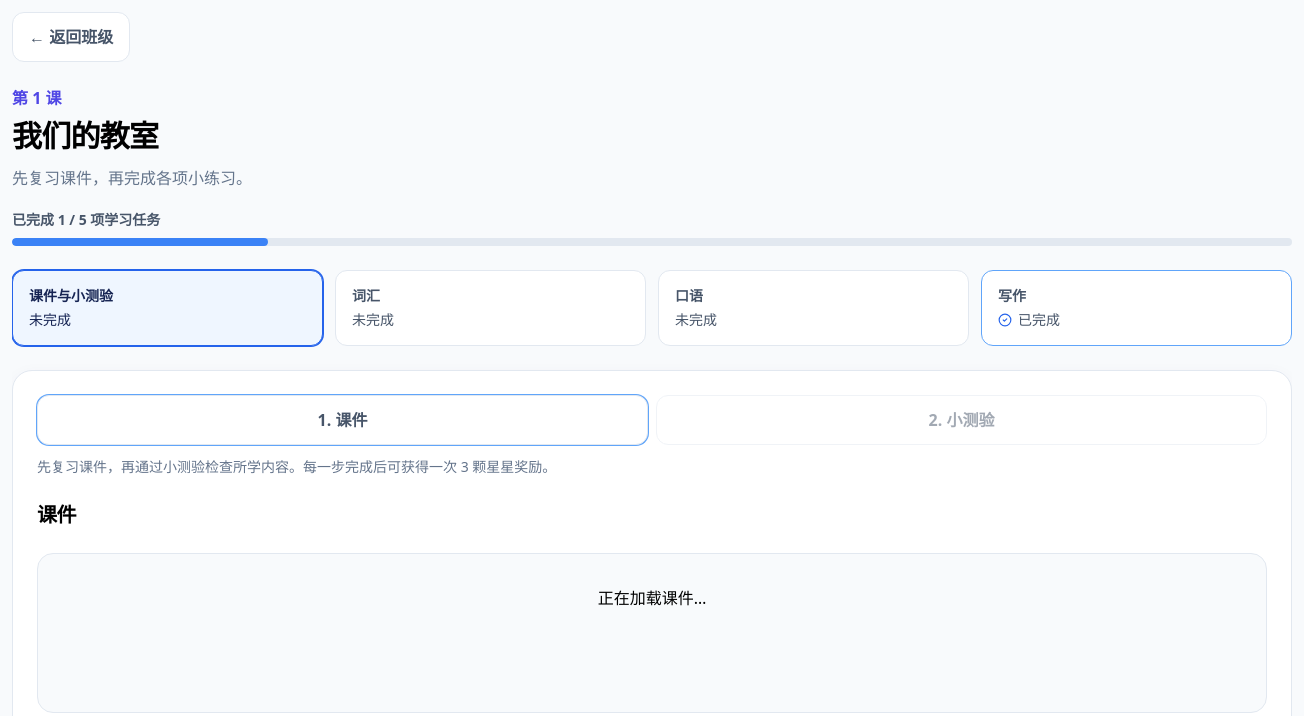
Test: reward remains visible after refresh or a retry, without claiming a second reward
Step 1. Click the button "写作 已完成" → (1039, 320), box [981,270,1292,346]
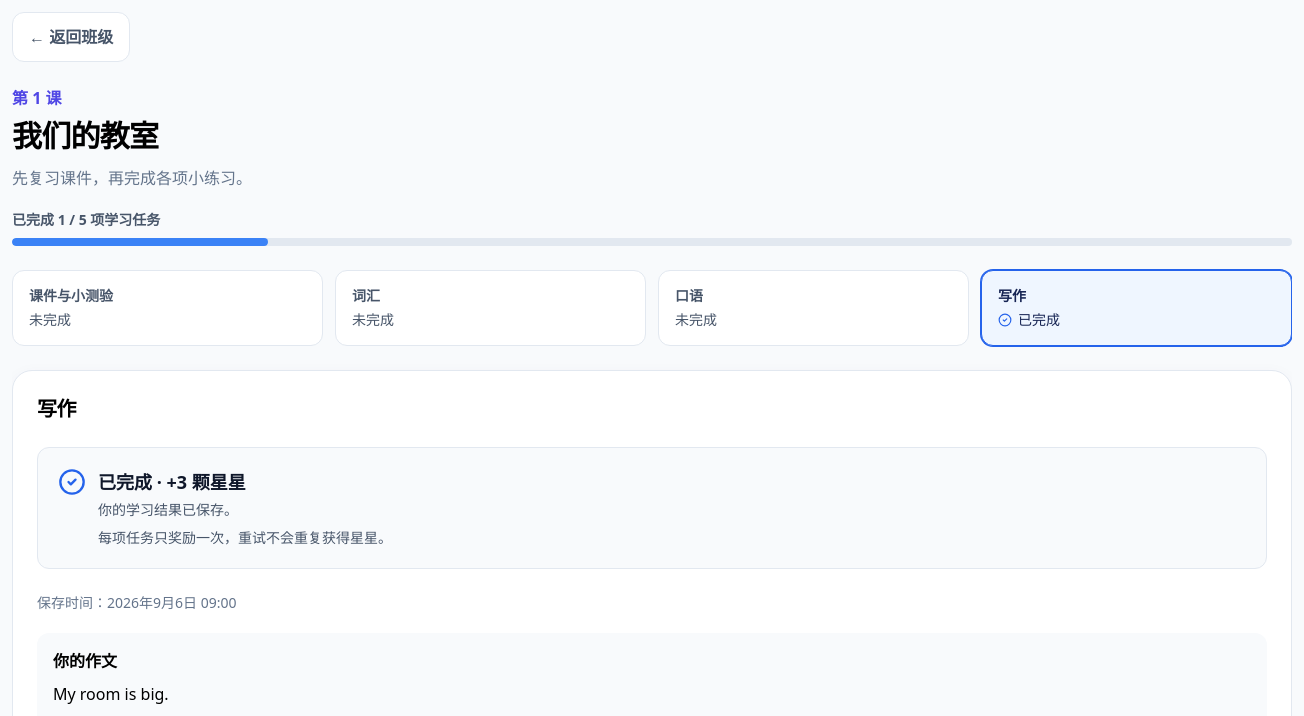
Expected: the text "已完成 · +3 颗星星" is shown, [98,470,246,494]
Expected: the text "每项任务只奖励一次，重试不会重复获得星星。" is shown, [98,528,392,548]
